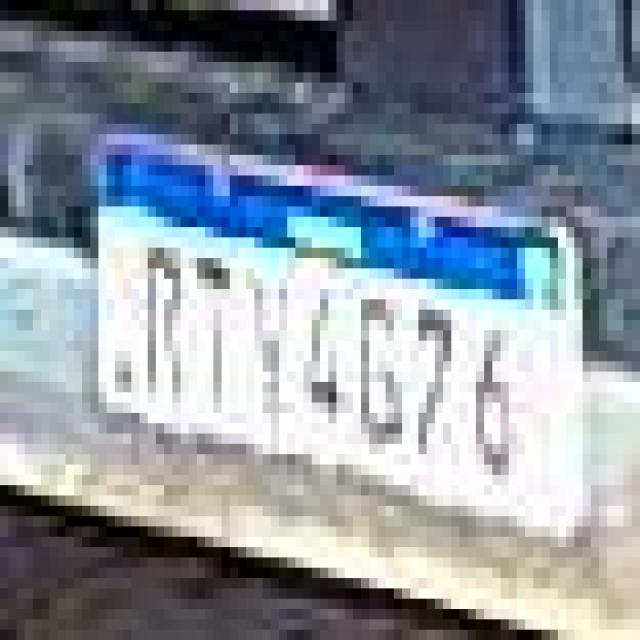4: (301, 280, 349, 436)
6: (463, 320, 524, 481)
7: (410, 303, 456, 469)
G: (346, 284, 411, 450)
R: (132, 238, 191, 406)
T: (188, 250, 243, 413)
Y: (246, 274, 295, 428)
